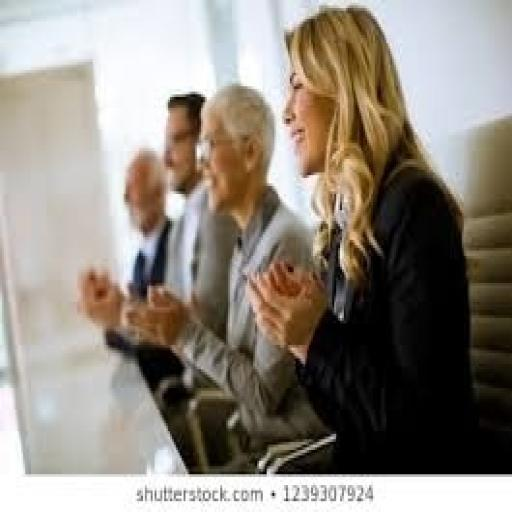clapping: (244, 2, 476, 472), (97, 84, 397, 404), (58, 54, 230, 483)
